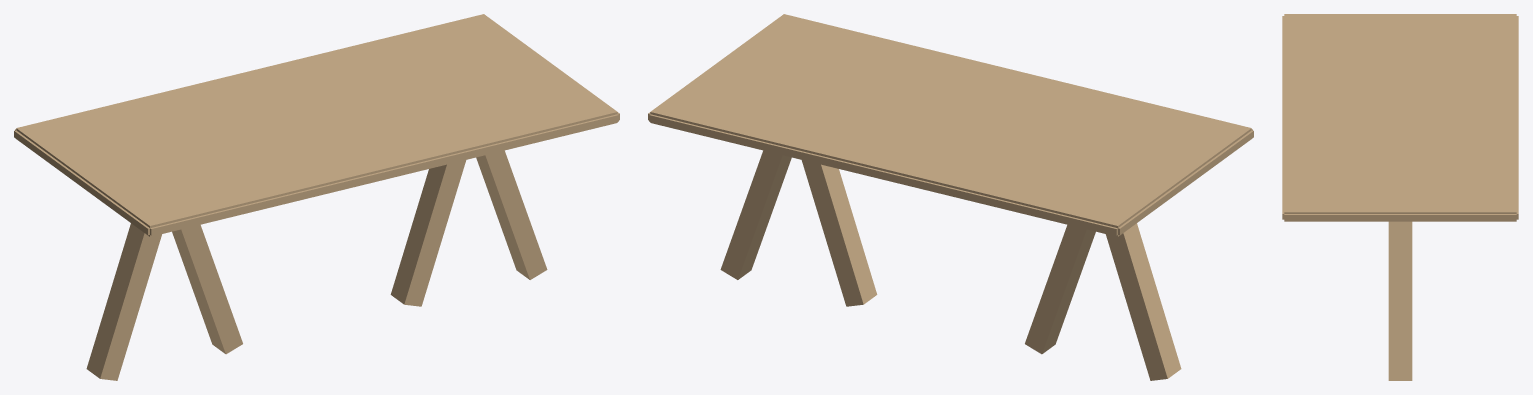
The picture shows the model from 3 angles, left to right: view 1: azimuth 30°, elevation 25°; view 2: azimuth 150°, elevation 25°; view 3: azimuth 270°, elevation 25°; orthographic projection. The views are drawn at different scales.
Parts seen in each view (by area): view 1: vava-dining-table; view 2: vava-dining-table; view 3: vava-dining-table.
Part boxes in pixels (x1,y1,x2,y2): vava-dining-table: (14, 14, 619, 380); vava-dining-table: (648, 14, 1253, 380); vava-dining-table: (1282, 14, 1518, 380).
Bounding box in the file's own units: 1.8 × 0.7494 × 0.9001.
